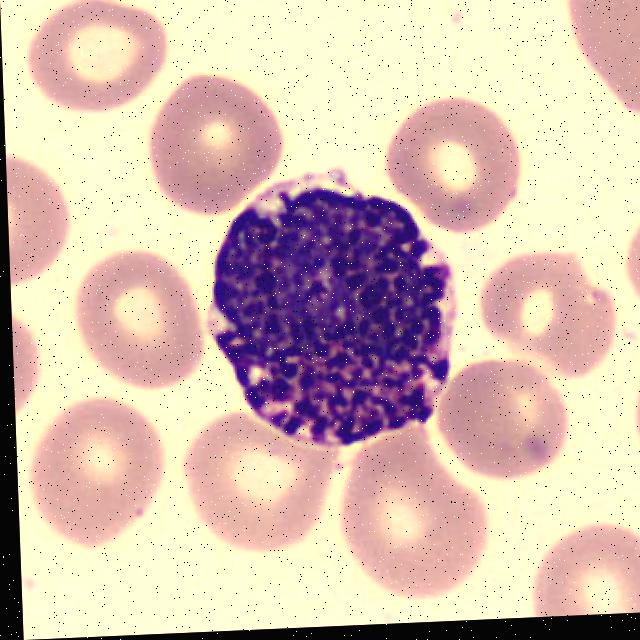basophil: (211, 155, 469, 444)
rbc: (339, 437, 506, 605), (476, 232, 626, 398), (30, 390, 178, 555), (188, 410, 335, 558), (24, 0, 204, 119), (149, 72, 291, 219), (390, 84, 522, 238), (68, 252, 200, 400), (449, 356, 582, 483), (511, 524, 640, 618), (6, 146, 73, 282), (568, 0, 640, 123), (12, 304, 55, 411), (619, 200, 640, 316), (635, 370, 640, 461), (376, 0, 461, 3)
